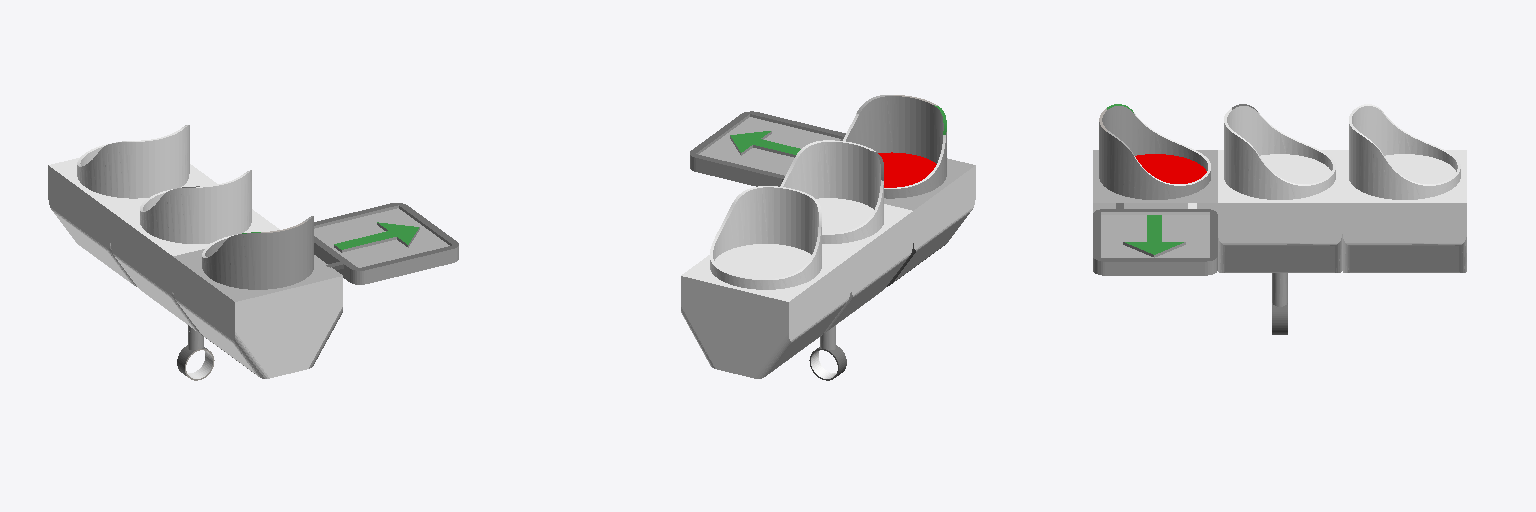
The model's file is svetofor_3_1_strela.obj.
The picture shows the model from 3 angles: view 1: azimuth 30°, elevation 25°; view 2: azimuth 150°, elevation 25°; view 3: azimuth 270°, elevation 25°; orthographic projection.
Parts seen in each view (by area): view 1: ________4, ________0, ________5, ________2, ________6; view 2: ________0, ________4, ________5, ________2, ________6; view 3: ________0, ________5, ________4, ________2, ________6.
Part boxes in pixels (x1,y1,x2,y2): ________4: (173, 216, 342, 378); ________0: (48, 125, 216, 286); ________5: (111, 170, 279, 332); ________2: (314, 203, 458, 284); ________6: (177, 325, 214, 380); ________0: (681, 186, 850, 378); ________4: (843, 95, 975, 286); ________5: (780, 140, 912, 332); ________2: (690, 111, 845, 186); ________6: (809, 325, 846, 380); ________0: (1342, 104, 1466, 272); ________5: (1218, 104, 1341, 272); ________4: (1093, 104, 1217, 213); ________2: (1093, 209, 1217, 275); ________6: (1272, 273, 1287, 334).
Bounding box in the file's own units: 0.0169 × 0.0151 × 0.024.